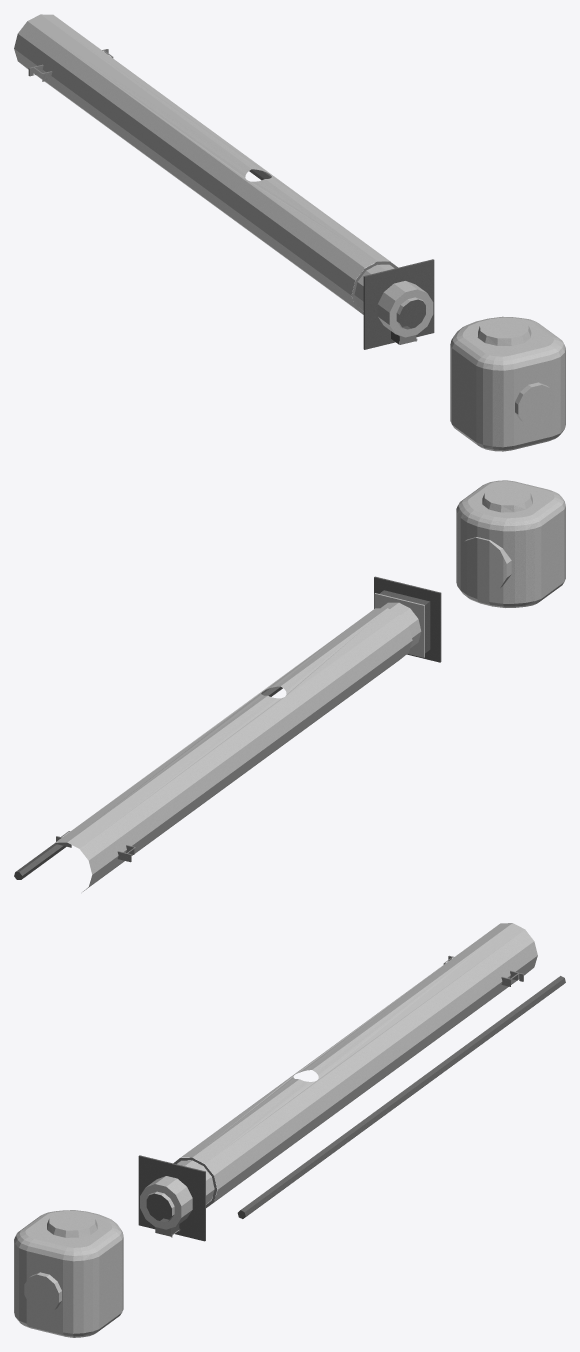
The model's file is ct-11m185937855-geode.glb.
3 views of the same model, one above another, from view 1: azimuth 30°, elevation 25°; view 2: azimuth 150°, elevation 25°; view 3: azimuth 330°, elevation 25° (orthographic). The views are drawn at different scales.
Parts seen in each view (by area): view 1: Node; view 2: Node; view 3: Node.
Part boxes in pixels (bbox=[...]): Node: bbox=[14, 14, 565, 451]; Node: bbox=[14, 480, 565, 891]; Node: bbox=[14, 923, 565, 1337].
Bounding box in the file's own units: 0.5364 × 0.5493 × 4.61.
3 materials, 3 textured.
